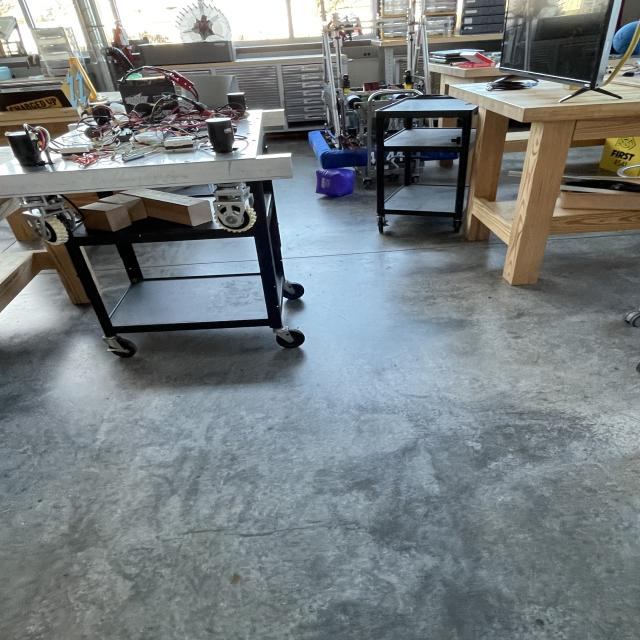frc_cube: (311, 163, 362, 200)
